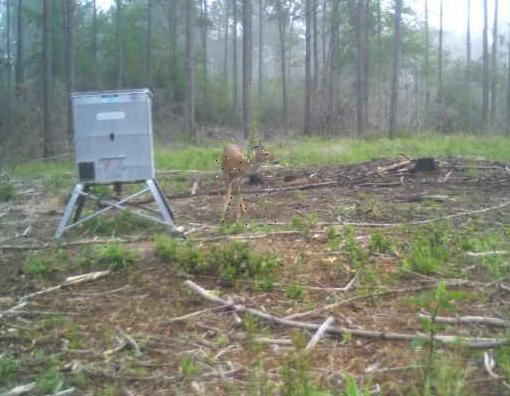Deer: (216, 137, 280, 227)
